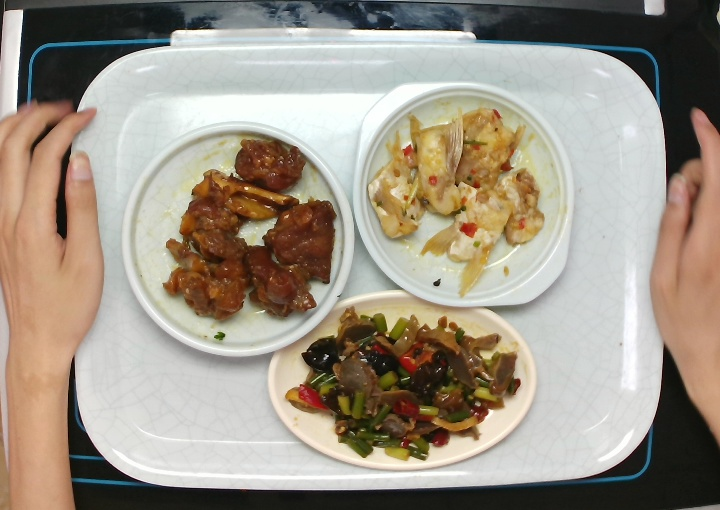JYsf-Shuang_Er_Pan: (348, 79, 577, 307)
JYsf-Tuo_Yuan_Wan: (266, 284, 536, 476)
JYsf-Xiao_Yuan_Pan: (123, 129, 353, 354)
